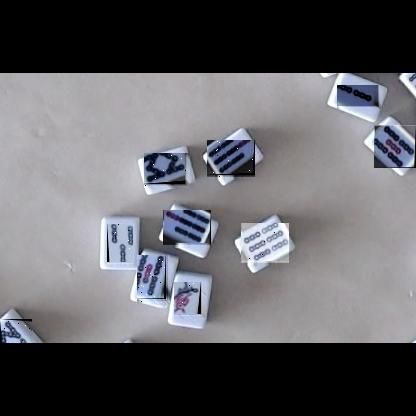1s: (175, 283, 206, 319)
2s: (338, 86, 382, 110)
3s: (107, 225, 133, 267)
5s: (374, 125, 416, 168), (138, 256, 171, 304)
6s: (241, 224, 289, 266)
7s: (207, 141, 255, 180), (163, 211, 211, 248)
8s: (145, 154, 190, 189), (0, 319, 32, 343)
